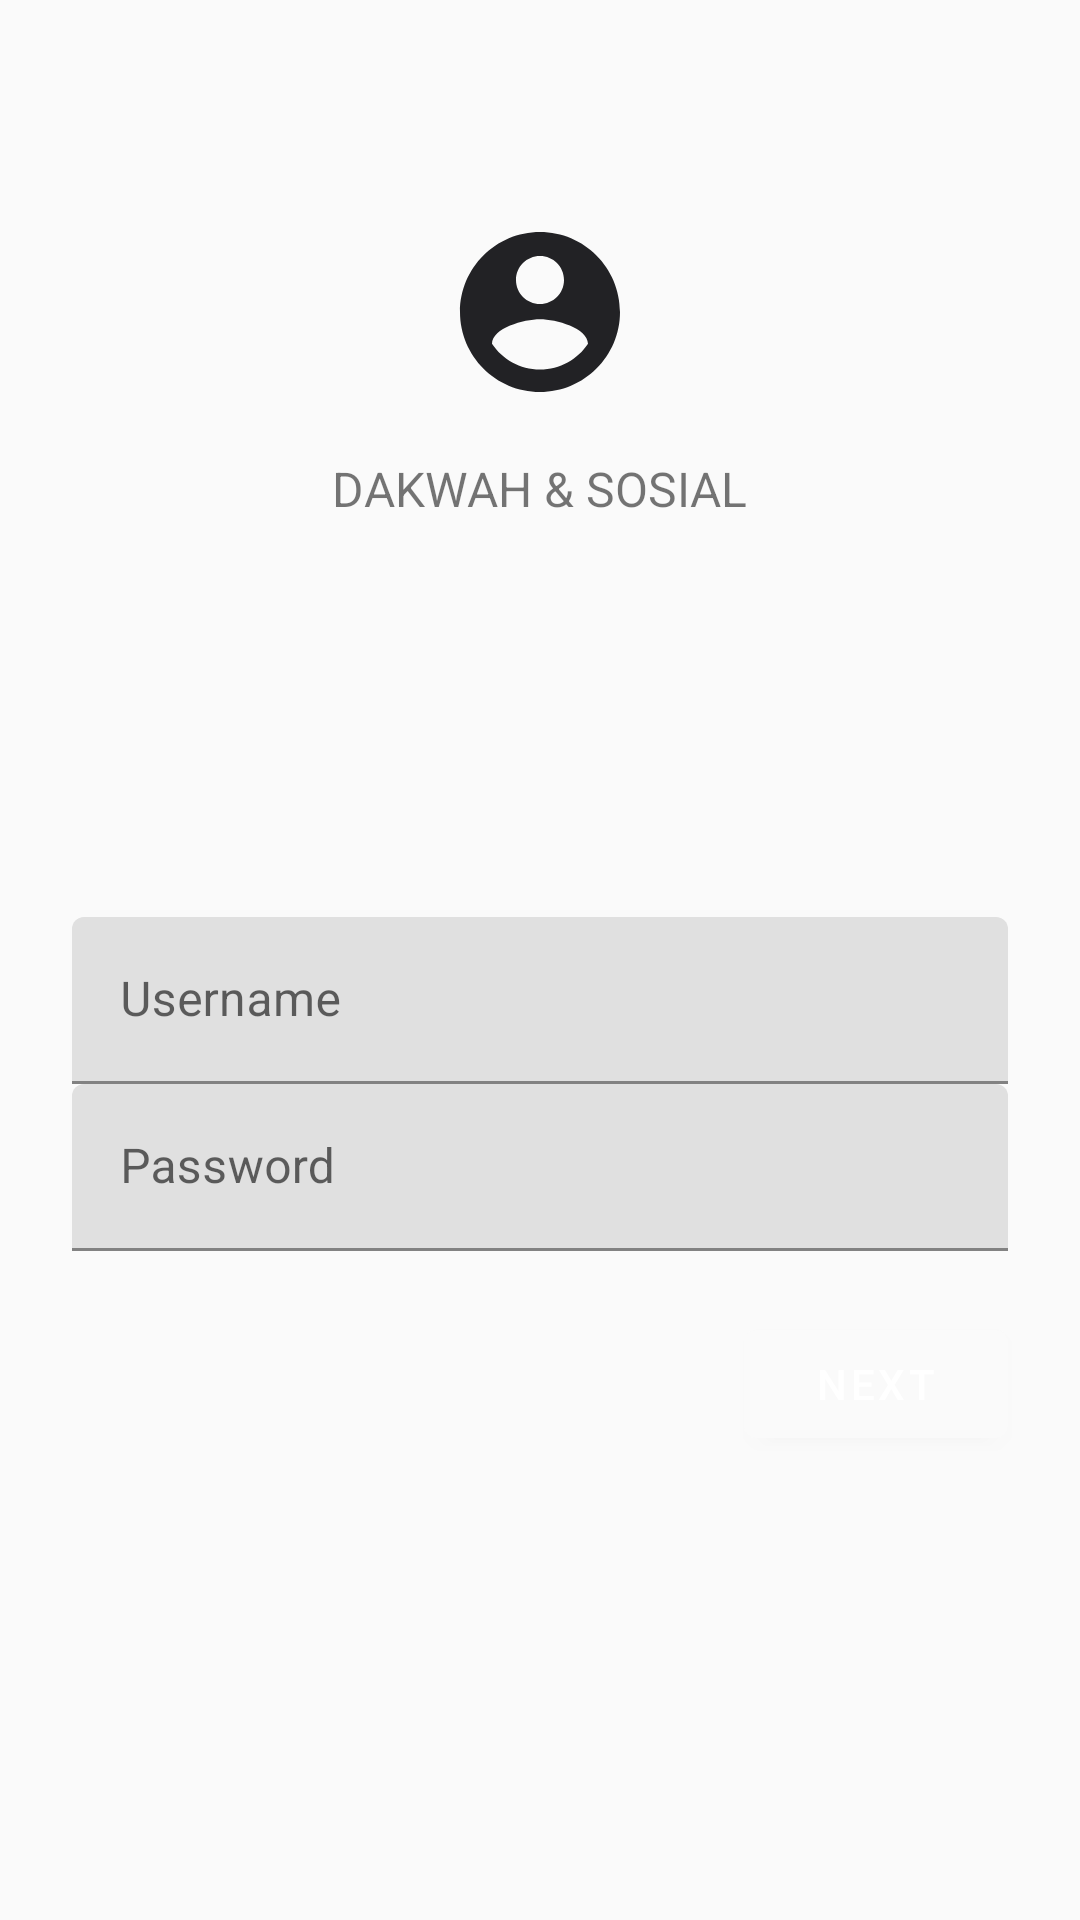

Icon click points for this 1080w x 1920h phone screenshot, format (x,y):
account circle: (540,312)
